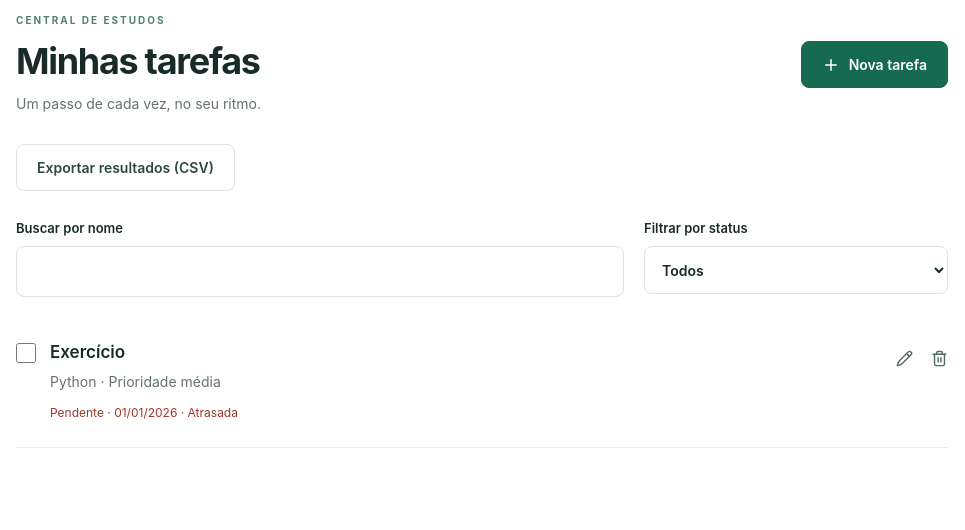
Test: completes a task and refreshes persisted data
The width and height of the screenshot is (965, 530).
Click the checkbox at coordinates (26, 353), box x1=16 y1=343 x2=36 y2=363
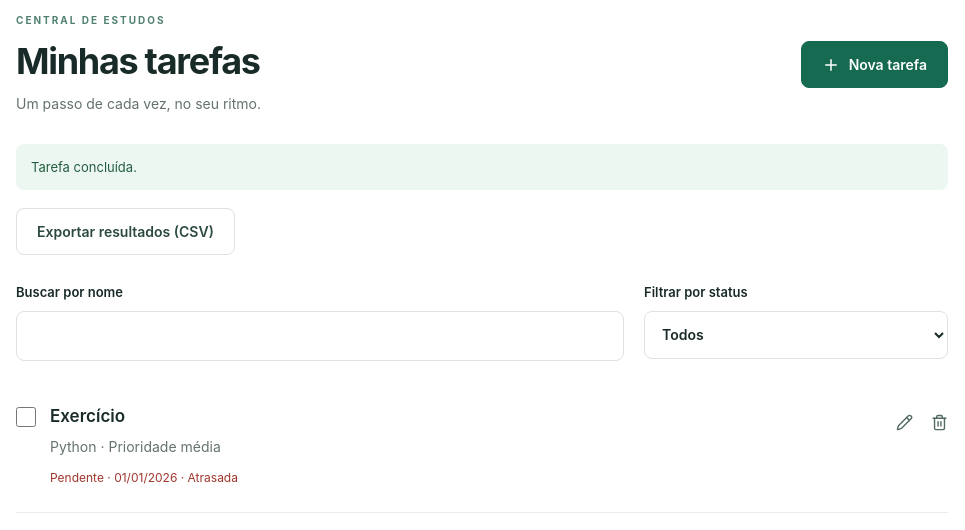
Expected: the text "Tarefa concluída." is shown, x1=16 y1=144 x2=948 y2=190
